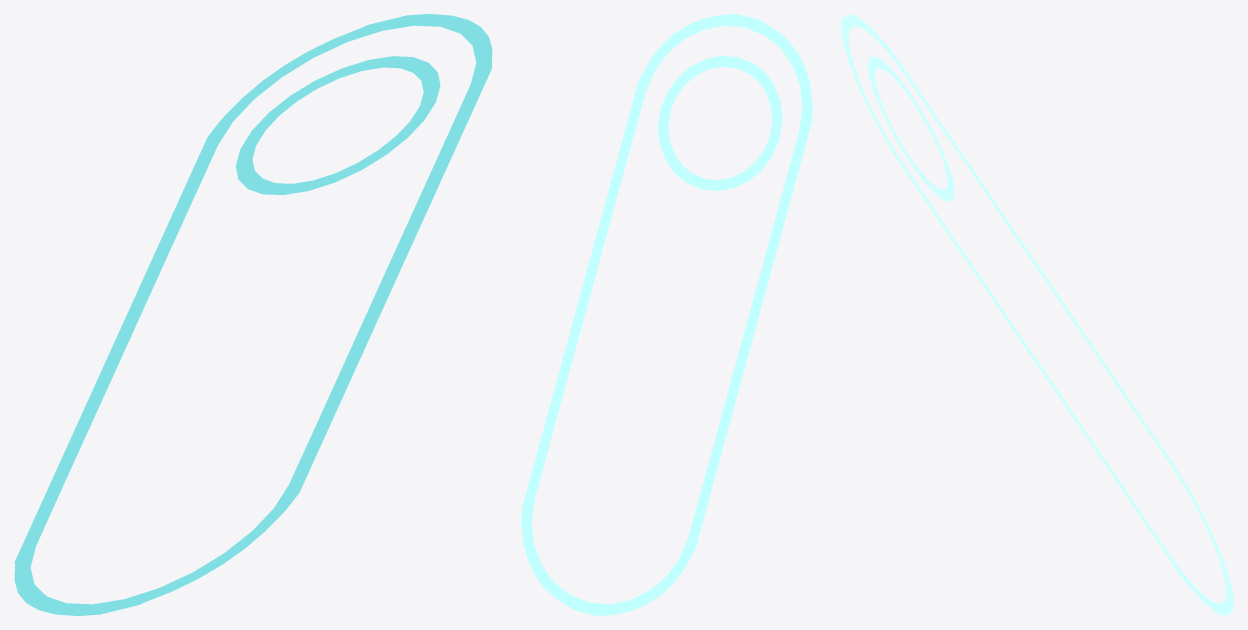
File: Rune_Glow_4.fbx
3 renders of one model, left to right at view 1: azimuth 30°, elevation 25°; view 2: azimuth 150°, elevation 25°; view 3: azimuth 270°, elevation 25°, orthographic. The views are drawn at different scales.
Parts seen in each view (by area): view 1: Rune4; view 2: Rune4; view 3: Rune4.
Part boxes in pixels (x1,y1,x2,y2): Rune4: (14, 14, 492, 615); Rune4: (521, 14, 812, 615); Rune4: (841, 14, 1233, 615).
Bounding box in the file's own units: 0.2082 × 0.5483 × 0.3386.
